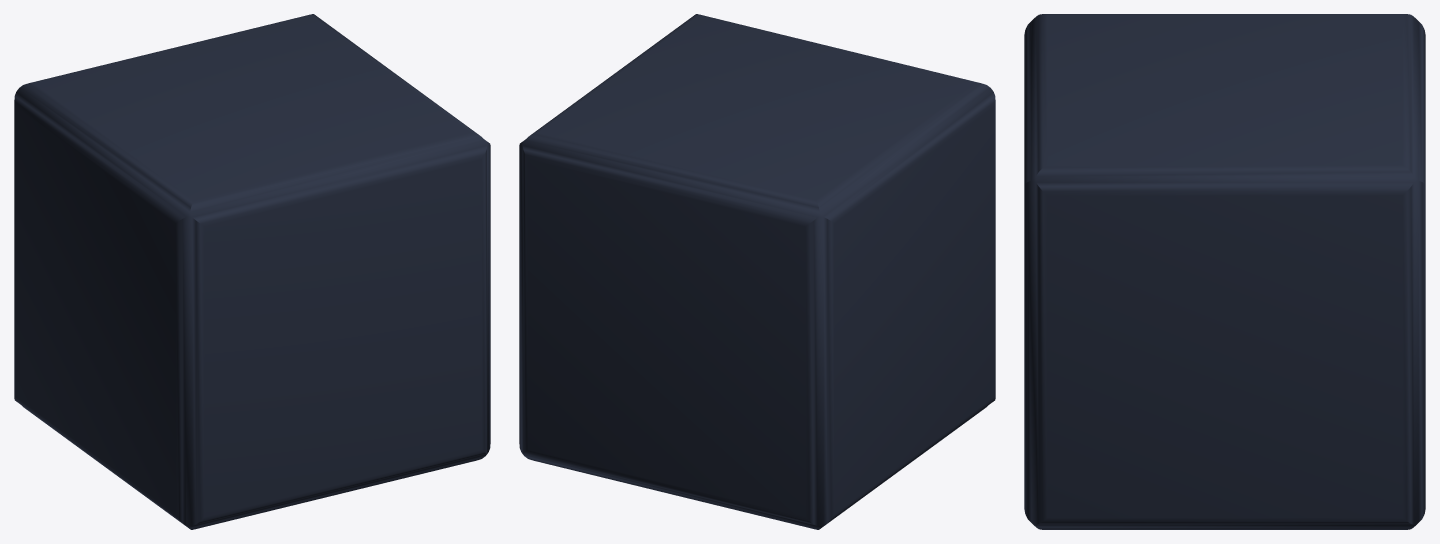
3 views of the same model, side by side, from view 1: azimuth 30°, elevation 25°; view 2: azimuth 150°, elevation 25°; view 3: azimuth 270°, elevation 25° (orthographic). The views are drawn at different scales.
Visible parts, largest first — view 1: R4B_Cube; view 2: R4B_Cube; view 3: R4B_Cube.
Boxes of the visible parts, x1,y1,x2,y2 form: R4B_Cube: (14, 14, 490, 529); R4B_Cube: (519, 14, 995, 529); R4B_Cube: (1024, 14, 1425, 529).
Size of the model in its own units: 0.52 by 0.52 by 0.52.
